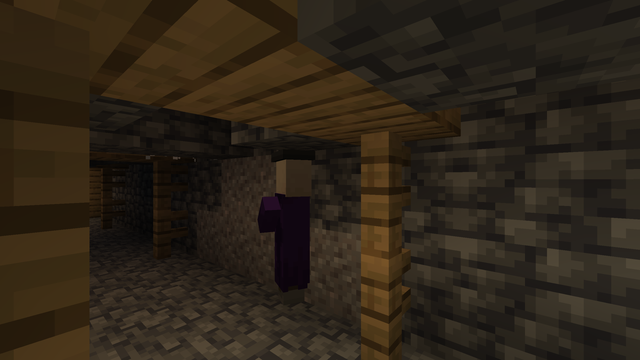sorcieres: (266, 152, 313, 313)
